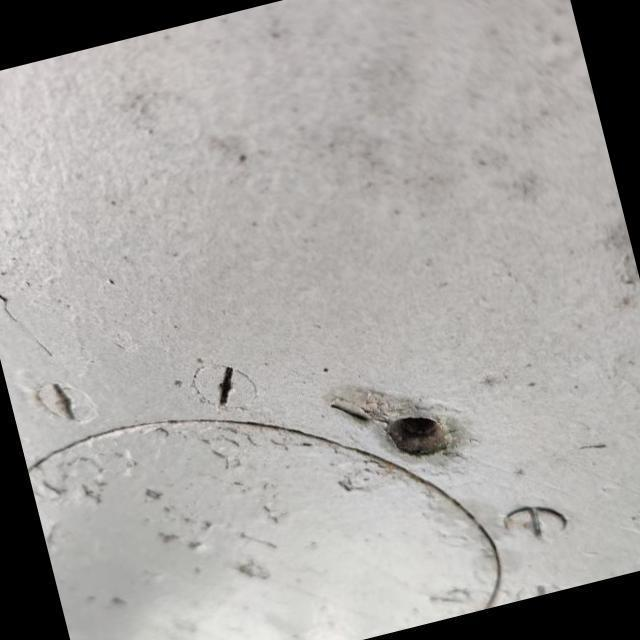Fastener Damage: (338, 360, 497, 511)
